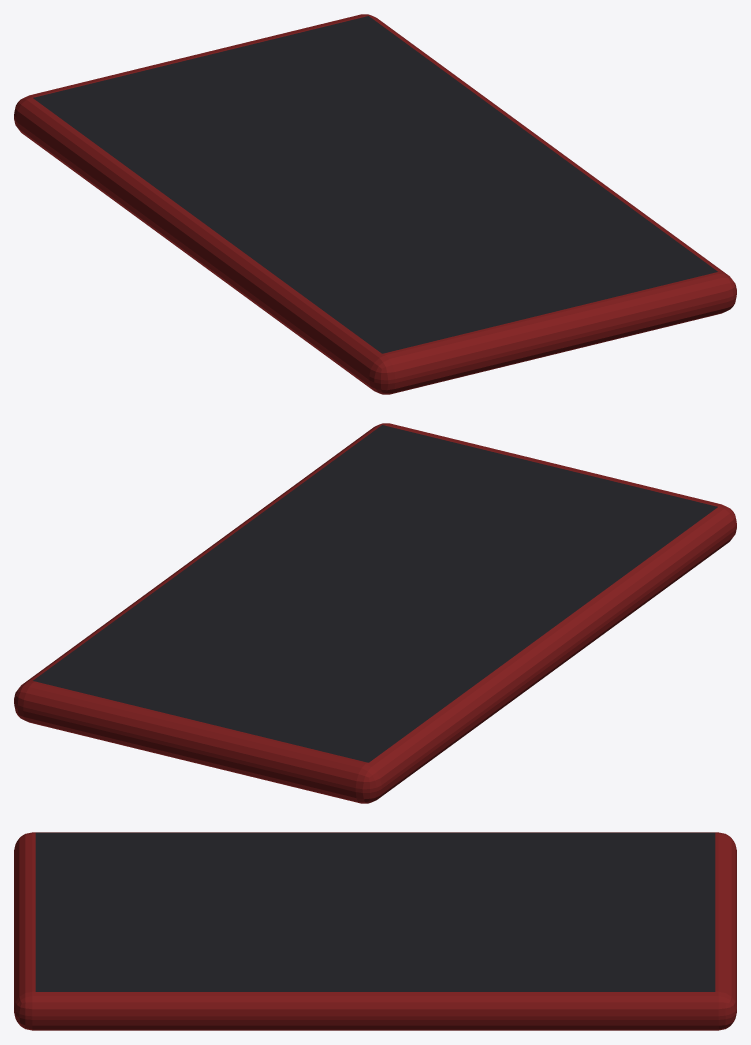
The model's file is Phone_680.glb.
3 views of the same model, one above another, from view 1: azimuth 30°, elevation 25°; view 2: azimuth 150°, elevation 25°; view 3: azimuth 270°, elevation 25° (orthographic). The views are drawn at different scales.
Parts seen in each view (by area): view 1: Phone_Screen, Phone_Body; view 2: Phone_Screen, Phone_Body; view 3: Phone_Screen, Phone_Body.
Part boxes in pixels (x1=…): Phone_Screen: x1=33, y1=16, x2=717, y2=353; Phone_Body: x1=14, y1=14, x2=736, y2=394; Phone_Screen: x1=33, y1=425, x2=717, y2=762; Phone_Body: x1=14, y1=423, x2=736, y2=803; Phone_Screen: x1=35, y1=832, x2=715, y2=991; Phone_Body: x1=14, y1=832, x2=736, y2=1030.
Bounding box in the file's own units: 0.08 × 0.0081 × 0.1411.
